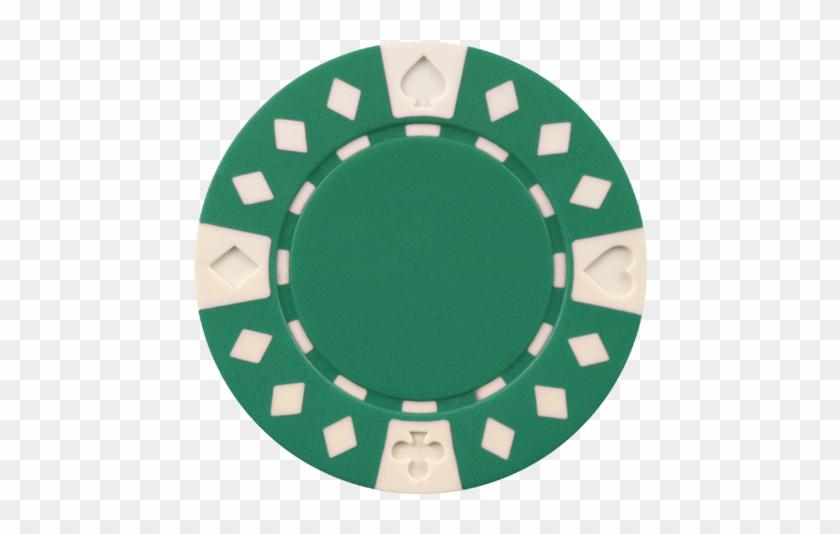chip-green: (194, 43, 646, 493)
